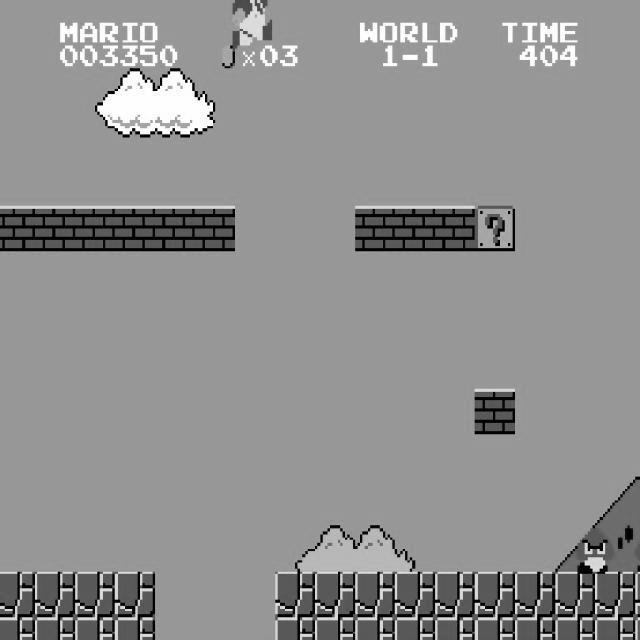1- brick_block: (474, 388, 516, 434), (34, 206, 76, 251), (74, 206, 116, 251), (114, 206, 156, 251), (154, 206, 196, 251), (194, 206, 236, 251), (354, 206, 396, 251), (394, 206, 436, 251), (434, 206, 476, 251), (0, 206, 35, 251)
13- mystery_block: (474, 206, 516, 251)
17- undestructible_block: (34, 572, 76, 618), (74, 572, 116, 618), (114, 572, 156, 618), (274, 572, 316, 618), (314, 572, 356, 618), (354, 572, 396, 618), (394, 572, 436, 618), (434, 572, 476, 618), (474, 572, 516, 618), (514, 572, 556, 618), (554, 572, 596, 618), (594, 572, 636, 618), (0, 572, 35, 618), (34, 617, 76, 640), (74, 617, 116, 640), (114, 617, 156, 640), (274, 617, 316, 640), (314, 617, 356, 640), (354, 617, 396, 640), (394, 617, 436, 640), (434, 617, 476, 640), (474, 617, 516, 640), (514, 617, 556, 640), (554, 617, 596, 640), (594, 617, 636, 640), (0, 617, 35, 640), (635, 572, 640, 618), (635, 617, 640, 640)
4- fire_mario: (230, 0, 272, 52)
8- goomba: (572, 526, 615, 574), (627, 526, 640, 574)
